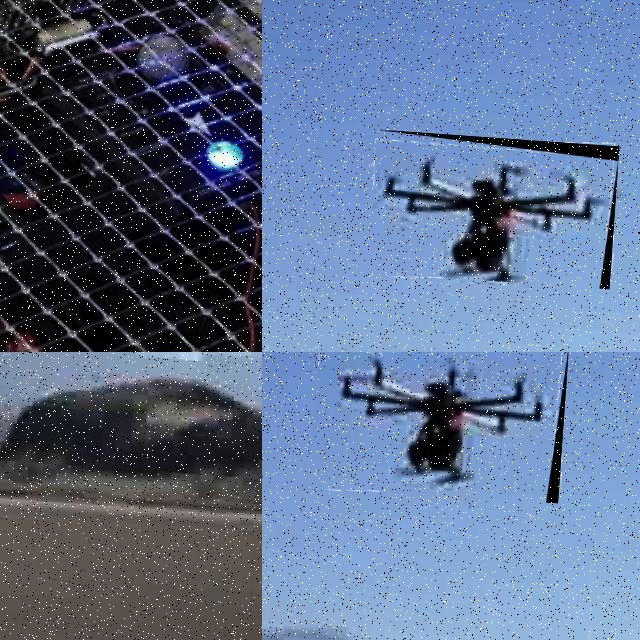0: (367, 129, 619, 289), (310, 352, 570, 503)
drone: (0, 0, 262, 352)
